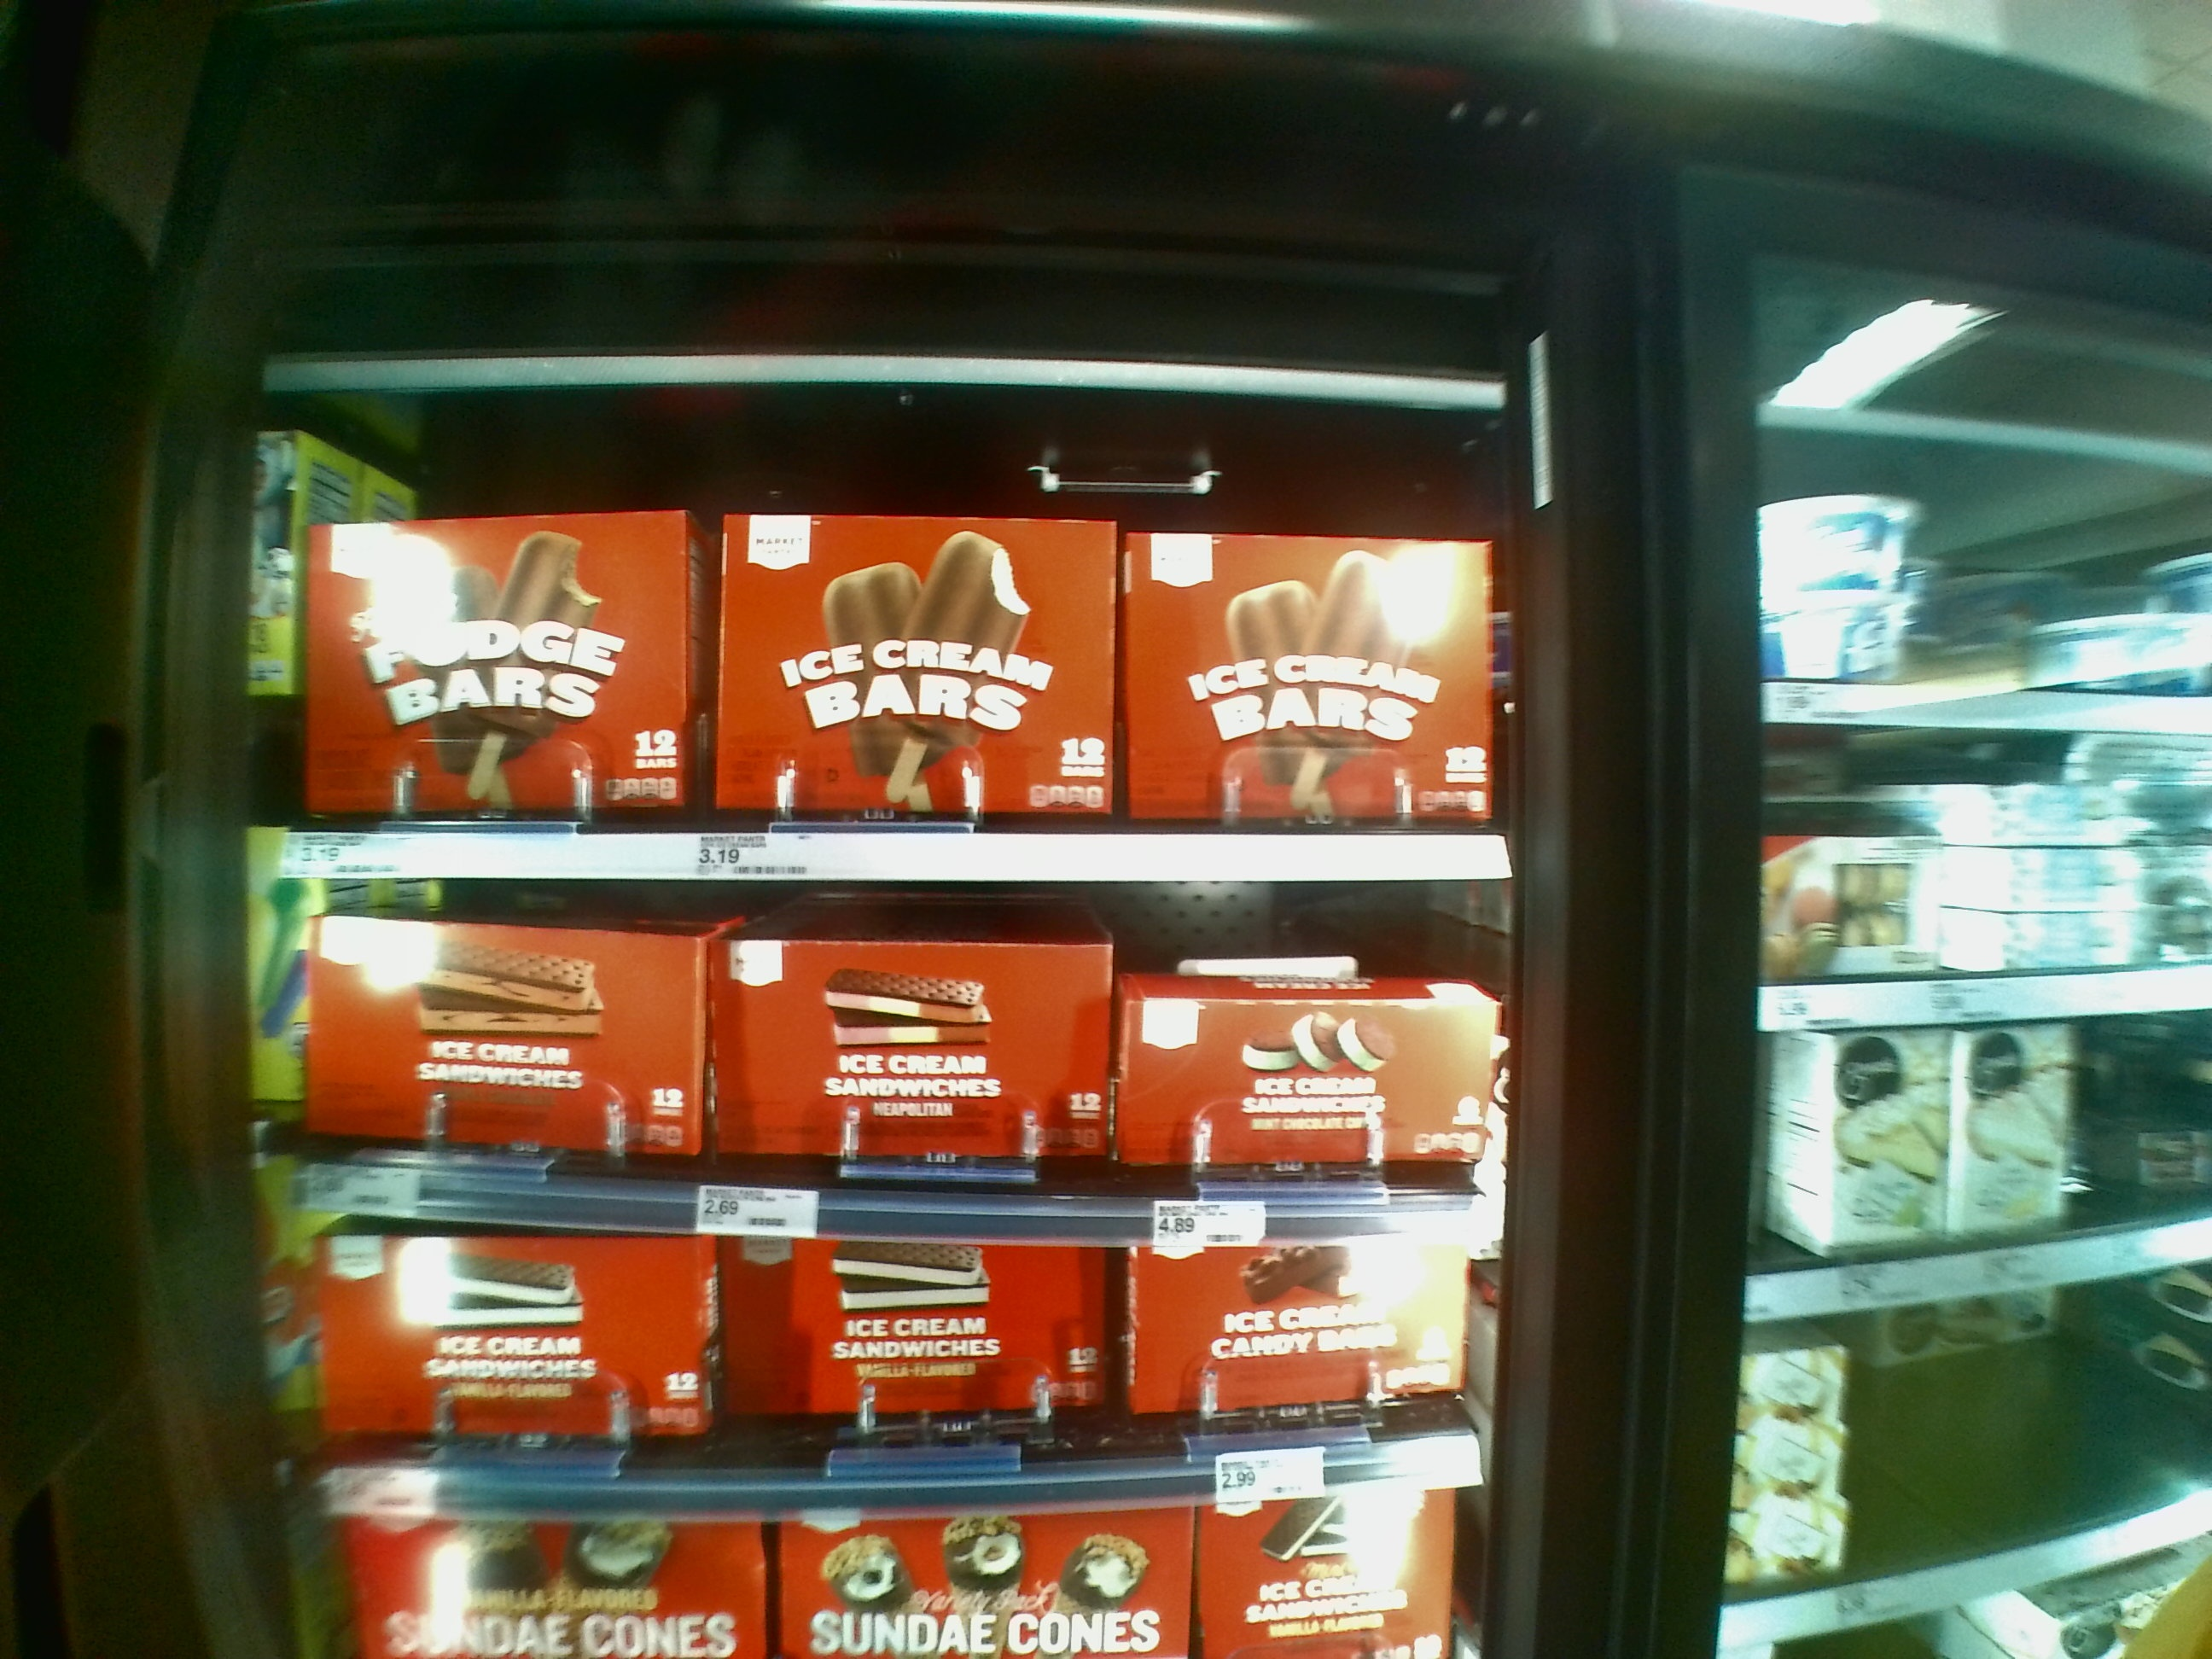shelf: (272, 399, 1527, 878), (284, 873, 1503, 1248), (322, 1232, 1494, 1520)
